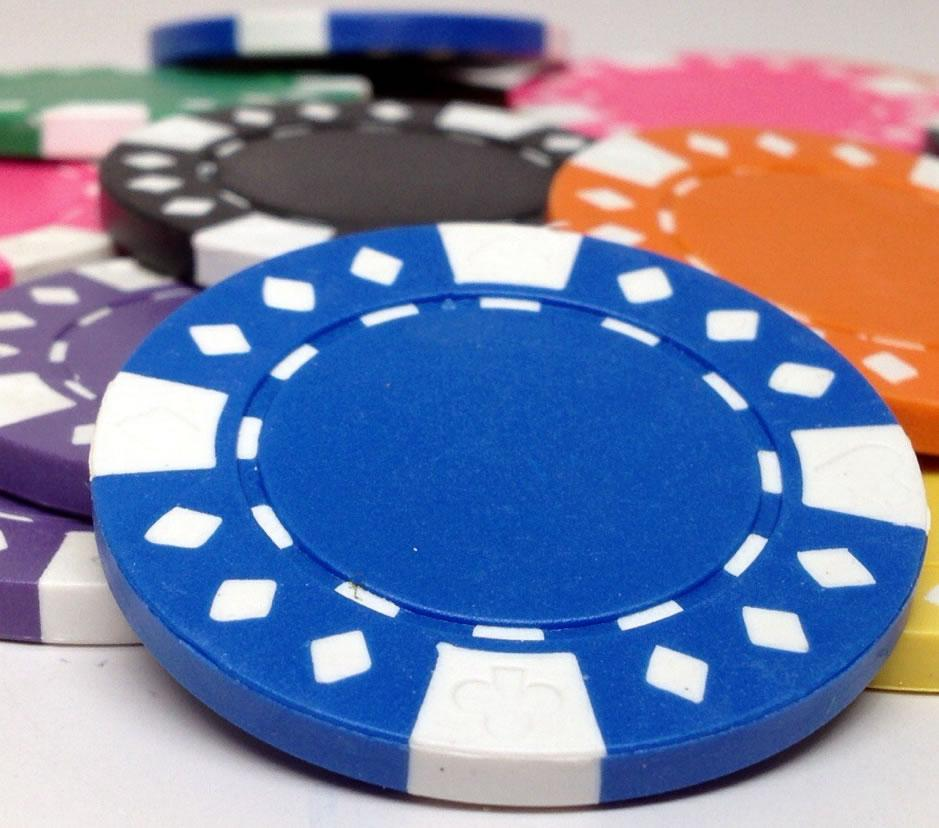chip-black: (101, 101, 589, 286)
chip-blue: (90, 224, 928, 804)
